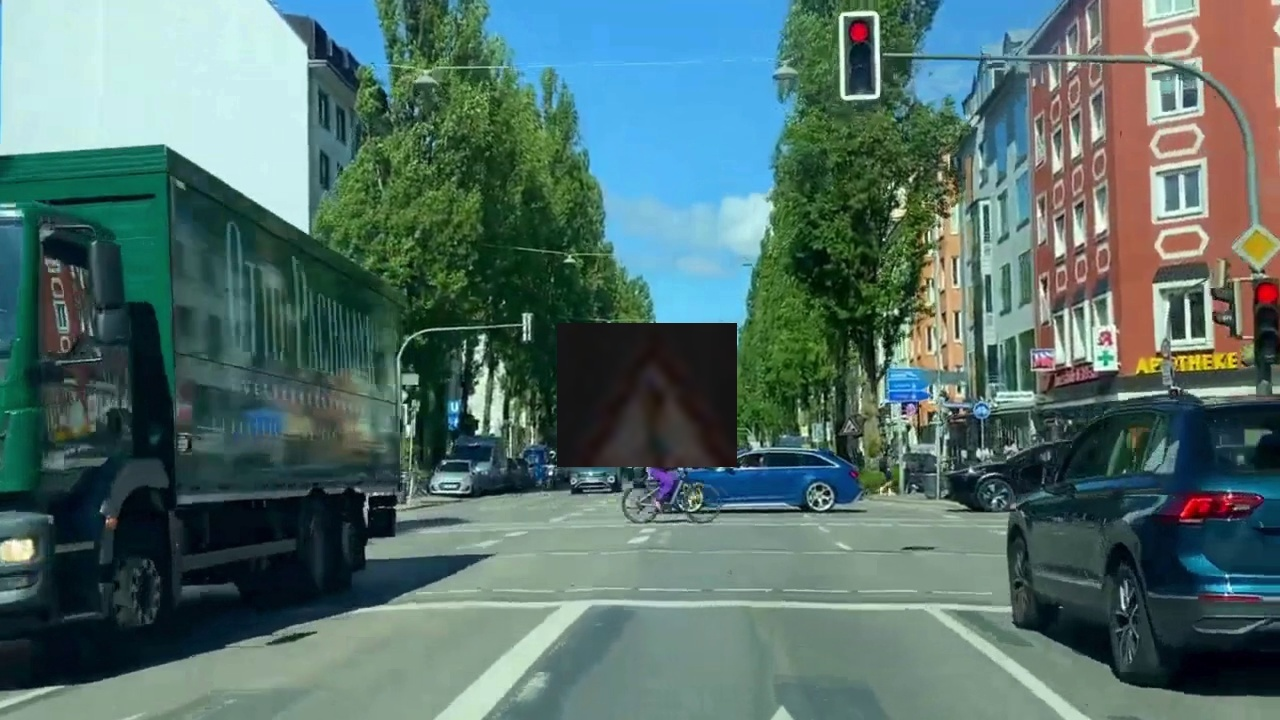Signals: (557, 323, 737, 467)
